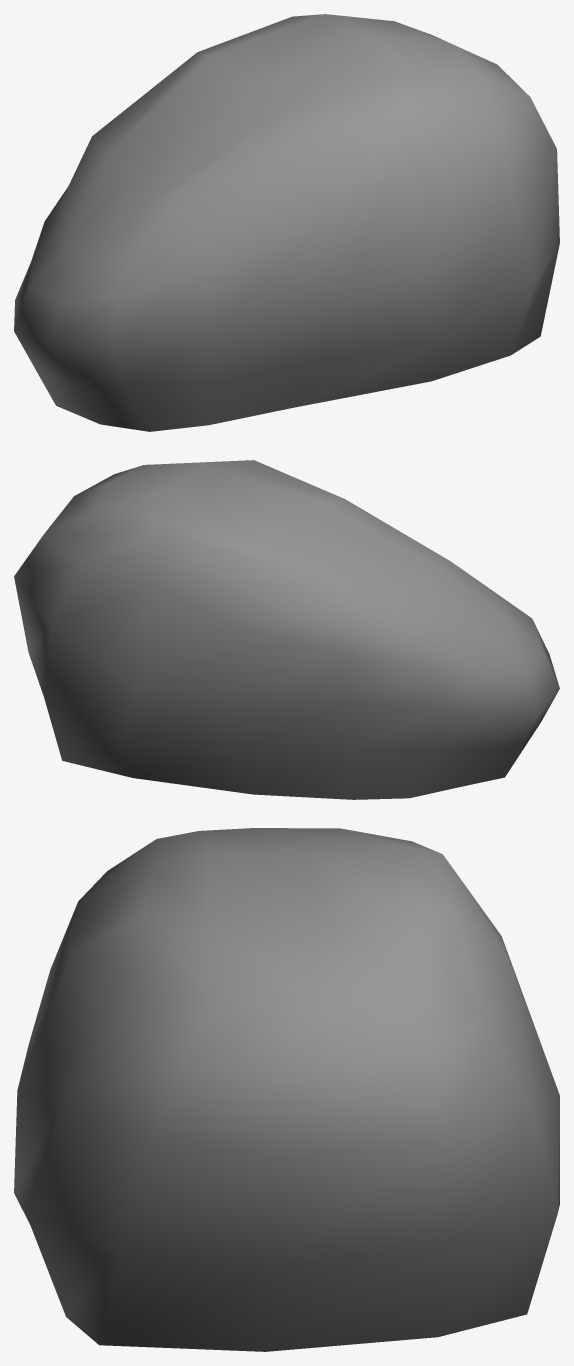
Rendered from Stone_02_B.fbx.
3 views of the same model, one above another, from view 1: azimuth 30°, elevation 25°; view 2: azimuth 150°, elevation 25°; view 3: azimuth 270°, elevation 25° (orthographic). The views are drawn at different scales.
Visible parts, largest first — view 1: Stone_02_B; view 2: Stone_02_B; view 3: Stone_02_B.
Part boxes in pixels (x1,y1,x2,y2): Stone_02_B: (14, 14, 559, 431); Stone_02_B: (14, 460, 559, 799); Stone_02_B: (14, 828, 559, 1351).
Bounding box in the file's own units: 2774 × 1338 × 1811.
